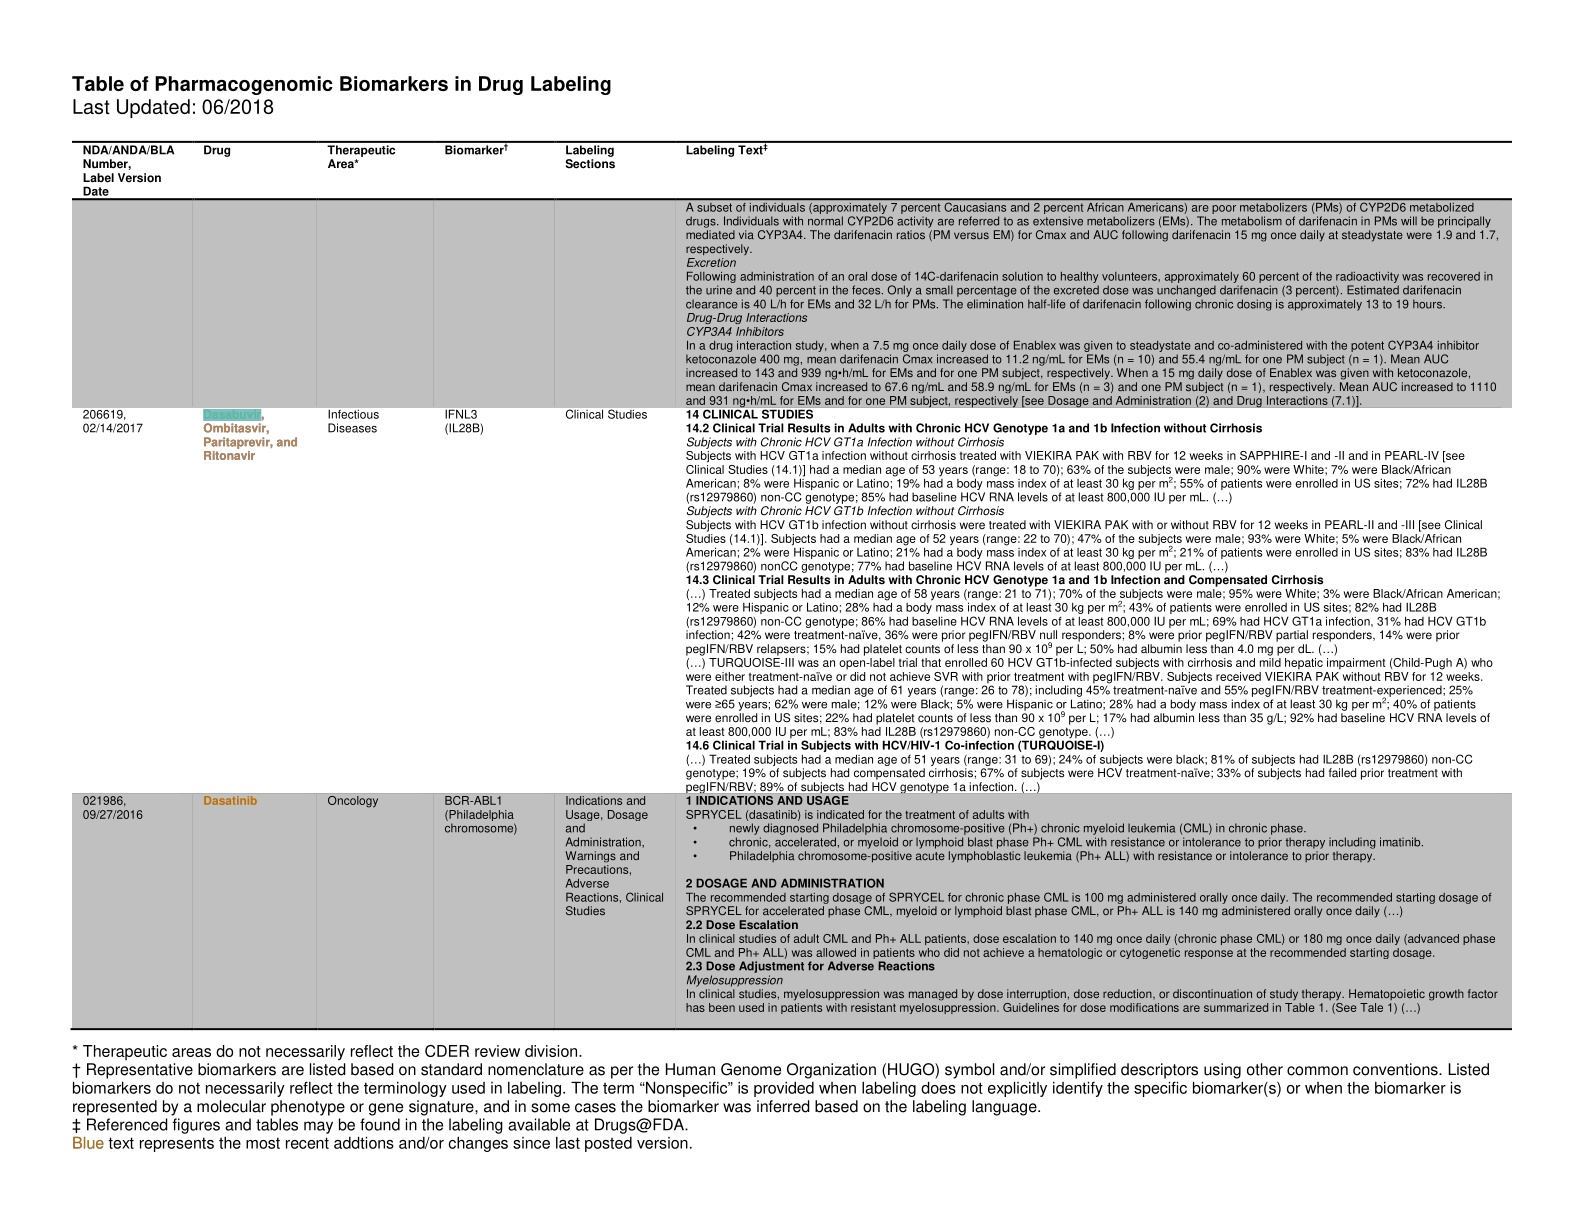partial_lined: (72, 141, 1513, 1031)
